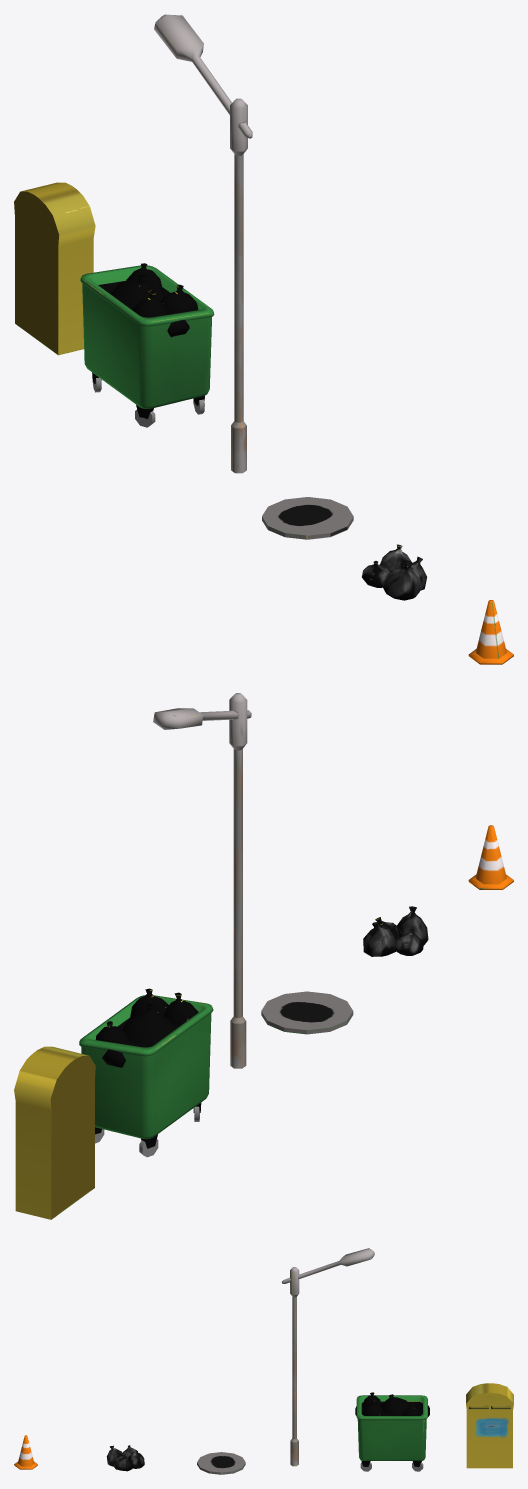
File: street_props_1.fbx
The picture shows the model from 3 angles, top to bottom: view 1: azimuth 30°, elevation 25°; view 2: azimuth 150°, elevation 25°; view 3: azimuth 270°, elevation 25°; orthographic projection. The views are drawn at different scales.
Parts seen in each view (by area): view 1: GarbageBin, MailBox, StreetLamp, ManHoleCover, Garbage, TrafficCone; view 2: GarbageBin, MailBox, StreetLamp, ManHoleCover, Garbage, TrafficCone; view 3: GarbageBin, MailBox, StreetLamp, ManHoleCover, Garbage, TrafficCone.
Part boxes in pixels (x1,y1,x2,y2): GarbageBin: (80,263,214,427); MailBox: (14,182,95,355); StreetLamp: (154,14,252,473); ManHoleCover: (262,497,353,539); Garbage: (362,544,426,600); TrafficCone: (468,600,513,664); GarbageBin: (79,988,213,1157); MailBox: (14,1046,95,1219); StreetLamp: (153,693,251,1068); ManHoleCover: (261,991,353,1034); Garbage: (363,906,428,956); TrafficCone: (468,825,513,889); GarbageBin: (355,1392,429,1471); MailBox: (466,1383,513,1468); StreetLamp: (282,1248,374,1466); ManHoleCover: (197,1452,245,1474); Garbage: (106,1445,144,1471); TrafficCone: (14,1435,37,1469).
Bounding box in the file's own units: 200 × 977 × 2048.
